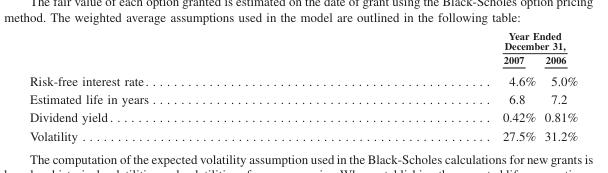table: (28, 29, 577, 142)
table column: (28, 29, 324, 142), (324, 29, 539, 142), (539, 29, 577, 142)
table column header: (28, 29, 577, 69)
table row: (28, 29, 577, 52), (28, 69, 577, 89), (28, 89, 577, 108), (28, 108, 577, 126), (28, 52, 577, 69), (28, 126, 577, 142)
table spanning cell: (324, 29, 577, 52)
